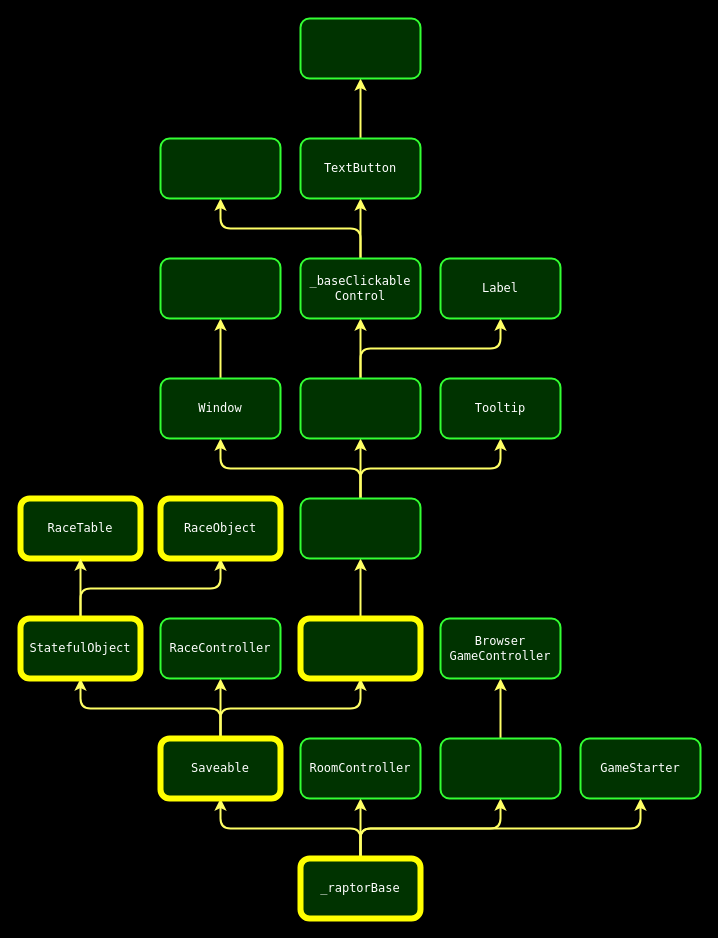
This 718x938 diagram has some shape labels left out. Here are the shapes that lost their labels. From the top down, the box of each, then its label:
(299, 17, 421, 79): ImageButton
(159, 137, 281, 199): InputBox
(159, 257, 281, 319): MessageBox Window
(299, 377, 421, 439): _baseControl WithTooltip
(299, 497, 421, 559): _baseControl
(297, 615, 423, 681): LGTextObject
(439, 737, 561, 799): GameController
